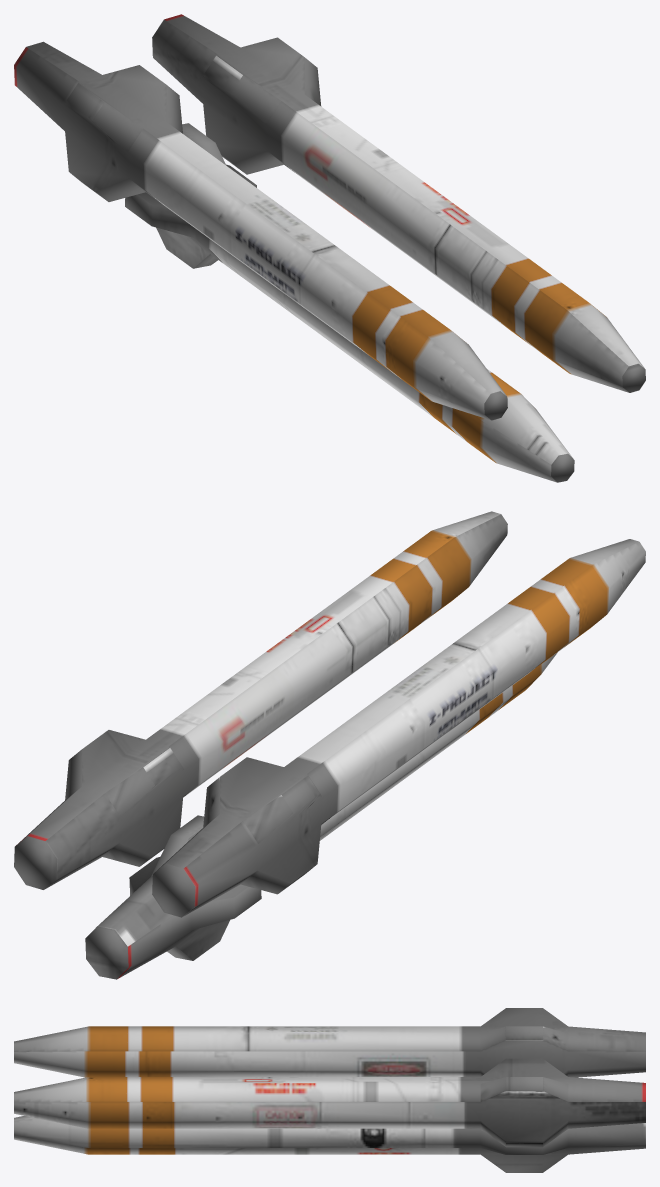
Rendered from weapon01_A.FBX.
3 views of the same model, one above another, from view 1: azimuth 30°, elevation 25°; view 2: azimuth 150°, elevation 25°; view 3: azimuth 270°, elevation 25° (orthographic). The views are drawn at different scales.
Visible parts, largest first — view 1: weapon01; view 2: weapon01; view 3: weapon01.
Part boxes in pixels (x1,y1,x2,y2): weapon01: (14,14,645,482); weapon01: (14,511,645,979); weapon01: (14,1008,645,1172).
Bounding box in the file's own units: 112 × 90.54 × 394.
